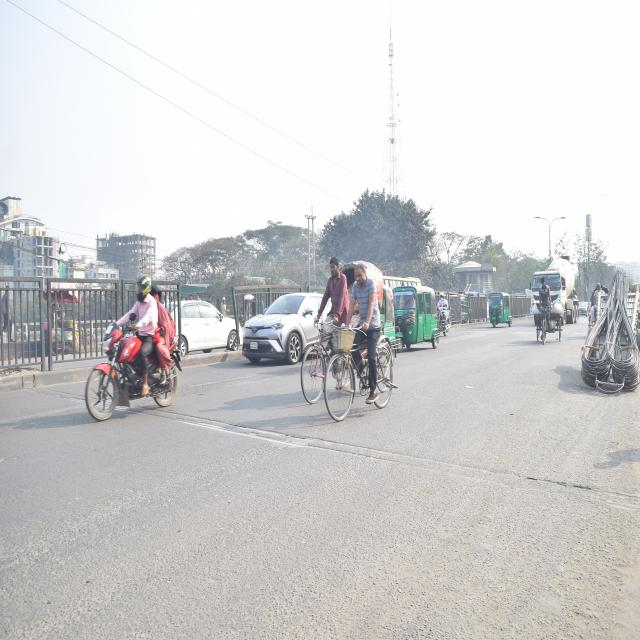car: (238, 289, 329, 367), (174, 290, 248, 362)
motorbike: (80, 304, 195, 431)
truck: (528, 255, 580, 339)
